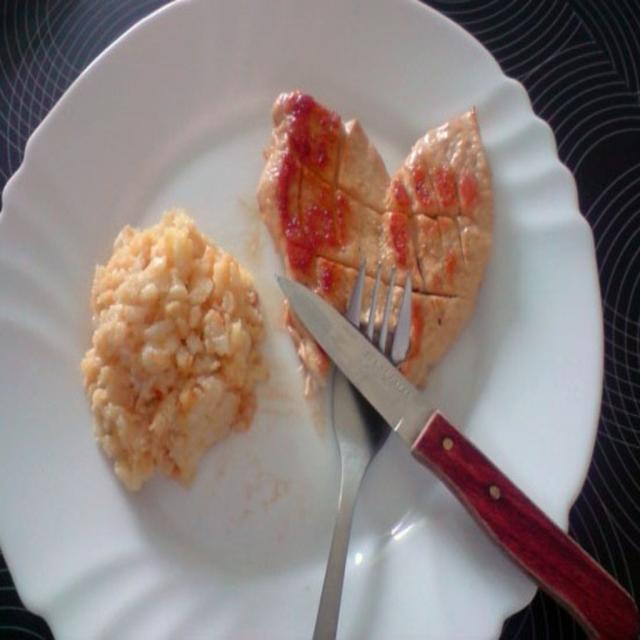Knife: (276, 275, 640, 640)
